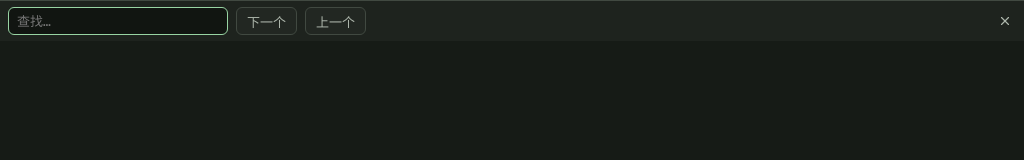
Test: useWebContentsFind 状态机 › 唤起 → 输入即发起 findInPage（findNext:false）；帧推送落计数
Step 1. Type "hello" into the field → [118, 21], box [8, 7, 228, 35]
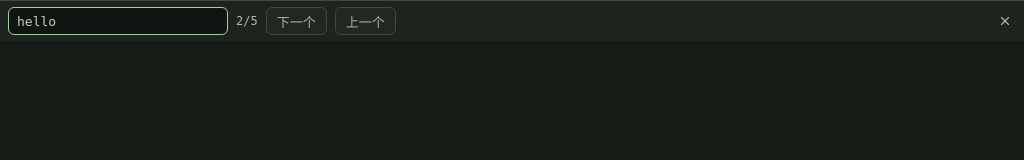
Result: the text "2/5" is shown at [236, 14, 258, 28]
